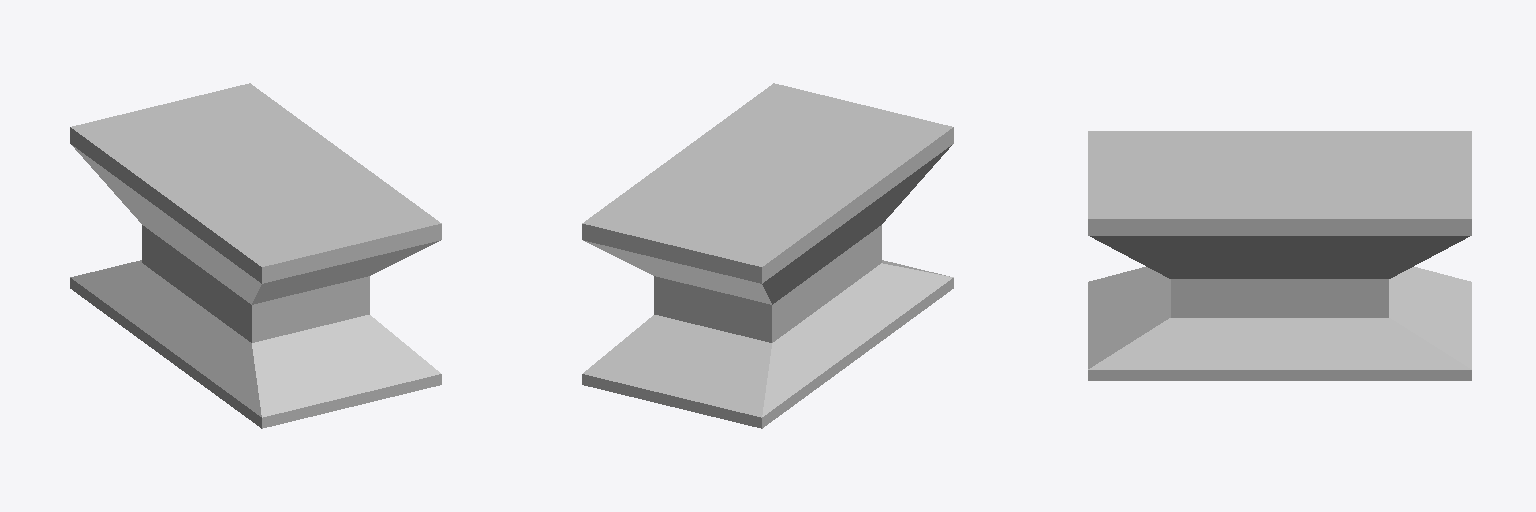
Rendered from Anvil.obj.
3 renders of one model, left to right at view 1: azimuth 30°, elevation 25°; view 2: azimuth 150°, elevation 25°; view 3: azimuth 270°, elevation 25°, orthographic.
Visible parts, largest first — view 1: Anvil; view 2: Anvil; view 3: Anvil.
Boxes of the visible parts, x1=… form: Anvil: x1=70, y1=83, x2=441, y2=428; Anvil: x1=582, y1=83, x2=953, y2=428; Anvil: x1=1088, y1=131, x2=1471, y2=380.
Size of the model in its own units: 0.65 by 0.5578 by 1.2.